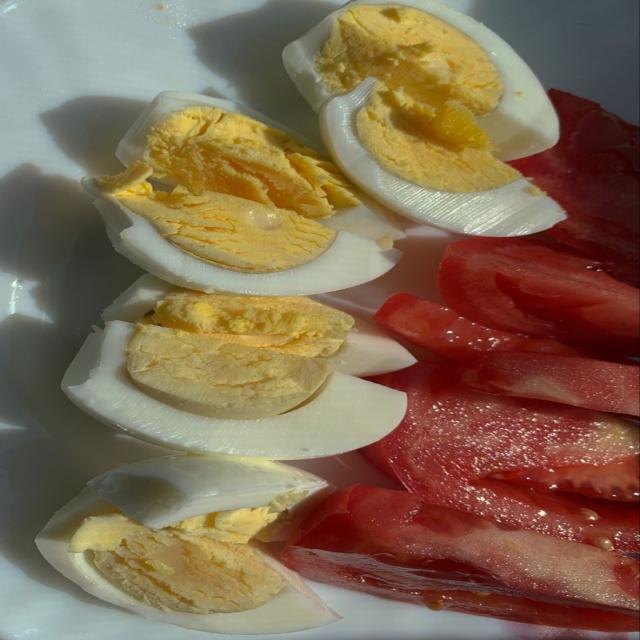sliced_tomato: (364, 361, 639, 554), (282, 484, 639, 632), (510, 89, 639, 285), (438, 238, 639, 355), (375, 293, 582, 361), (457, 351, 639, 416)
